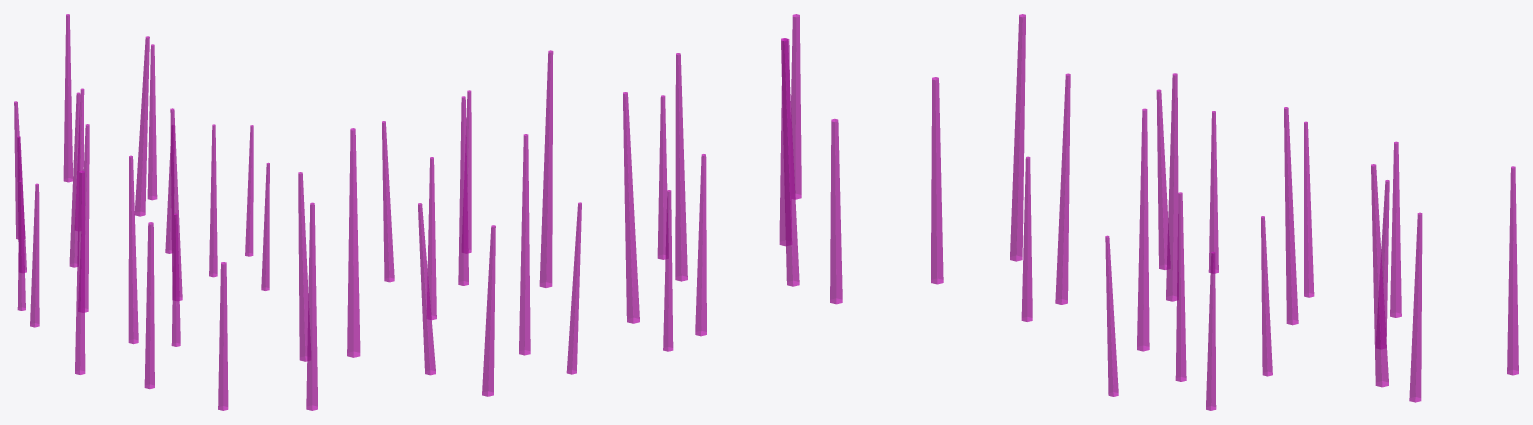
File: SM_Env_Tree_Pine_Group_02_Collision.fbx
3 views of the same model, side by side, from view 1: azimuth 30°, elevation 25°; view 2: azimuth 150°, elevation 25°; view 3: azimuth 270°, elevation 25° (orthographic). The views are drawn at different scales.
Visible parts, largest first — view 1: SM_Env_Tree_Pine_Group_02_Collision; view 2: SM_Env_Tree_Pine_Group_02_Collision; view 3: SM_Env_Tree_Pine_Group_02_Collision.
Part boxes in pixels (box(x1,y1,x2,y2)): SM_Env_Tree_Pine_Group_02_Collision: box(14, 14, 269, 410); SM_Env_Tree_Pine_Group_02_Collision: box(298, 14, 801, 410); SM_Env_Tree_Pine_Group_02_Collision: box(830, 14, 1518, 410).
Bounding box in the file's own units: 1907 × 1397 × 3551.
